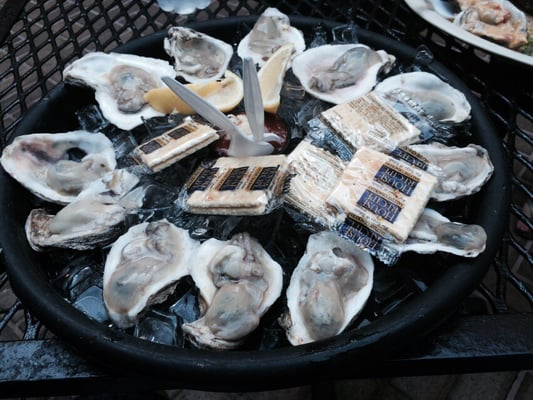salad: (104, 218, 285, 349)
